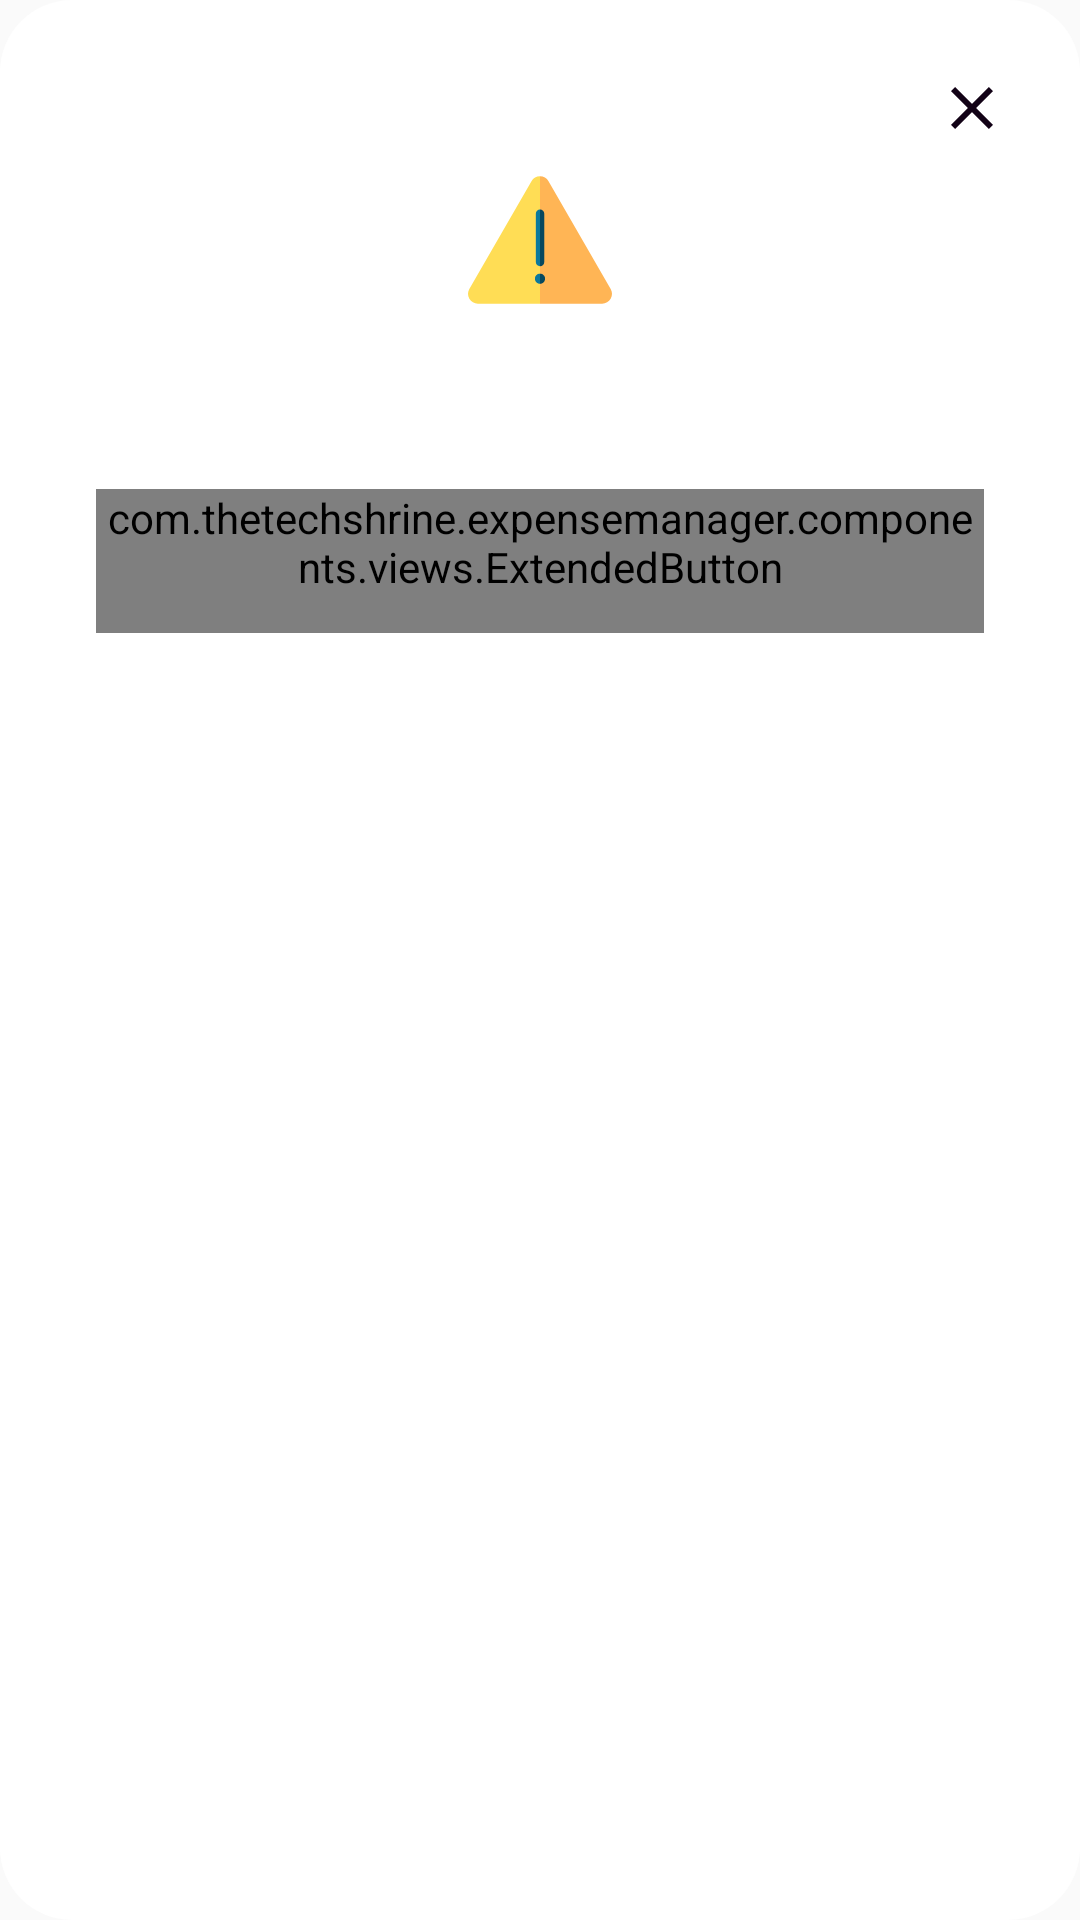

Icons on this 1080x1920 Android screen, each with its box as detection(x1, y1, x2, y2):
close: detection(951, 87, 993, 129)
warning sign: detection(468, 176, 612, 304)
